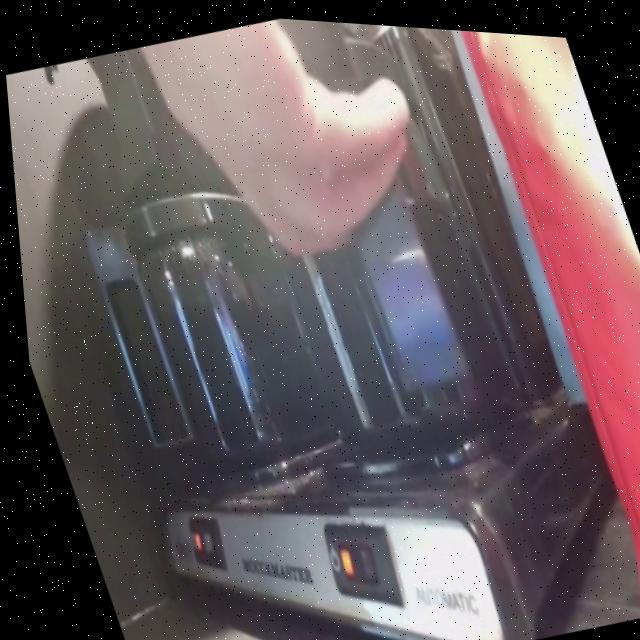coffee: (197, 10, 554, 474), (102, 161, 345, 506)
